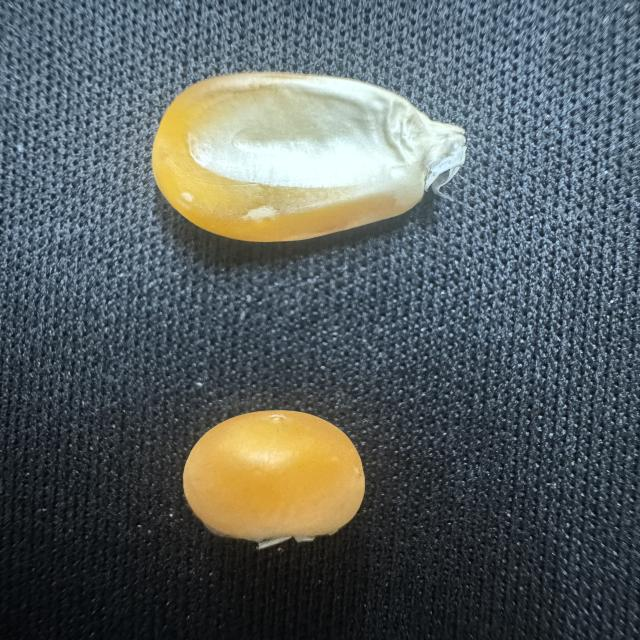Bad-Seed: (170, 403, 377, 552)
Good-Seed: (142, 59, 479, 249)
